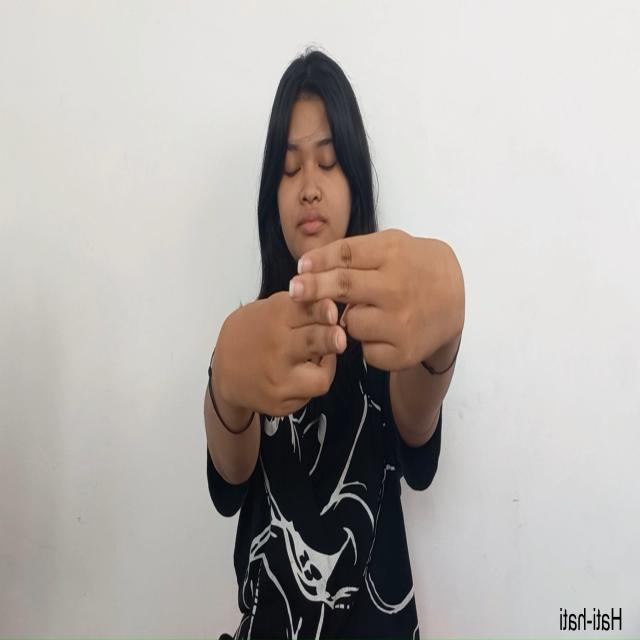Hati-hati -BISINDO-: (212, 227, 466, 420)
